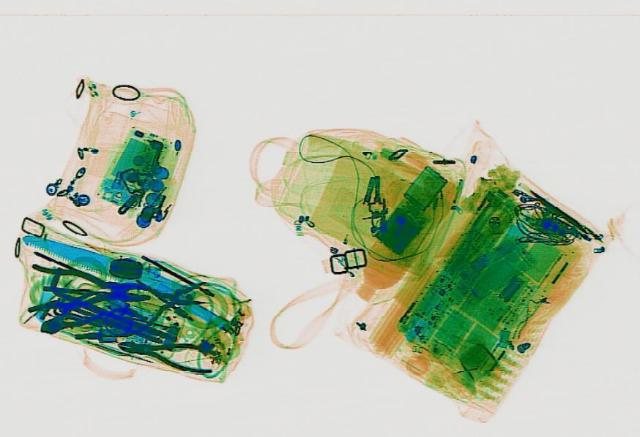Pliers: (22, 262, 152, 316), (29, 288, 127, 340), (122, 270, 212, 326), (108, 330, 220, 373)
